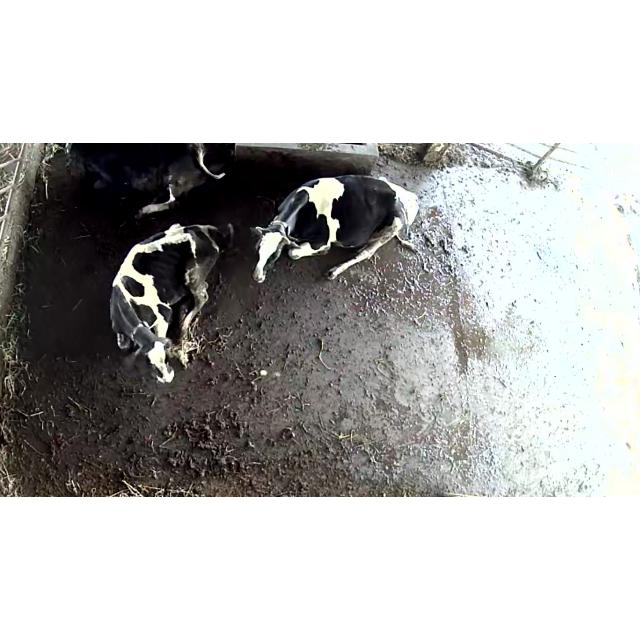lay: (243, 170, 434, 300), (98, 218, 238, 392)
